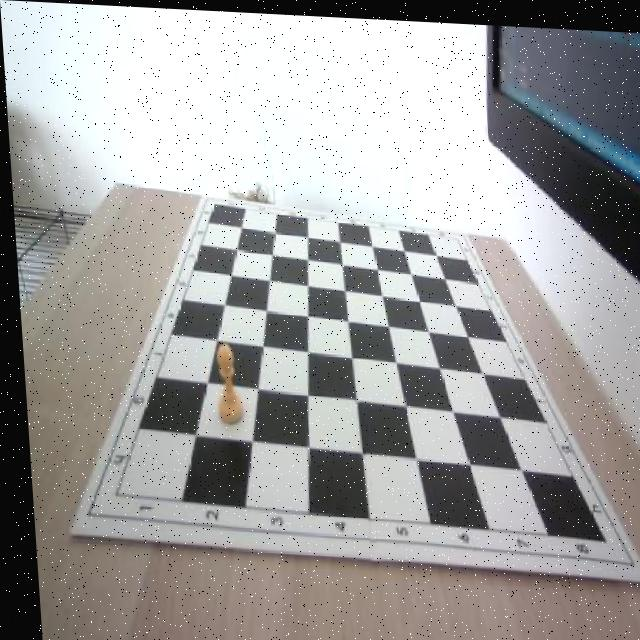white-knight: (210, 340, 240, 425)
